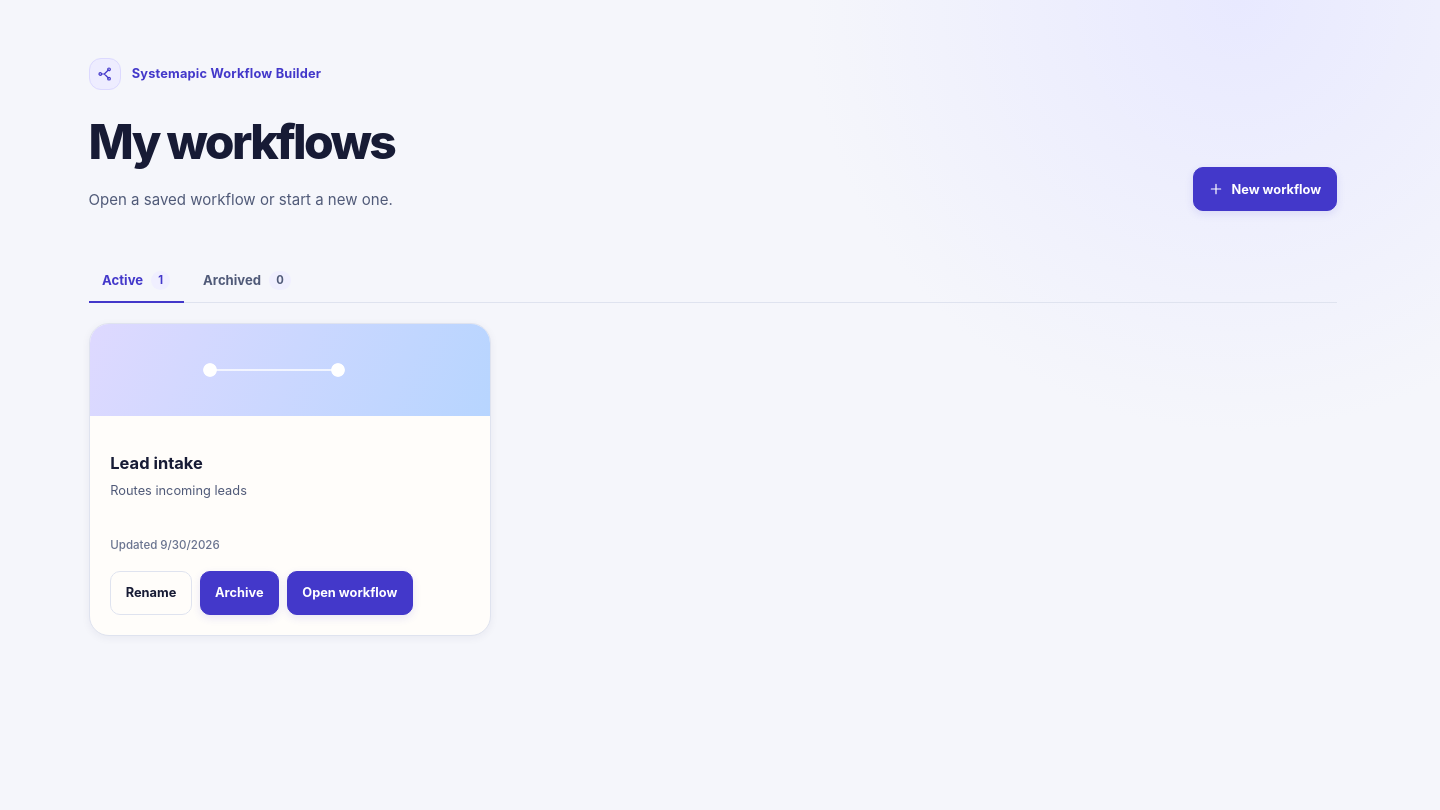
Scenario: WorkflowLibrary › cancels archive confirmation without changing the card
Click the button "Archive": x=239, y=593 [200,571,279,615]
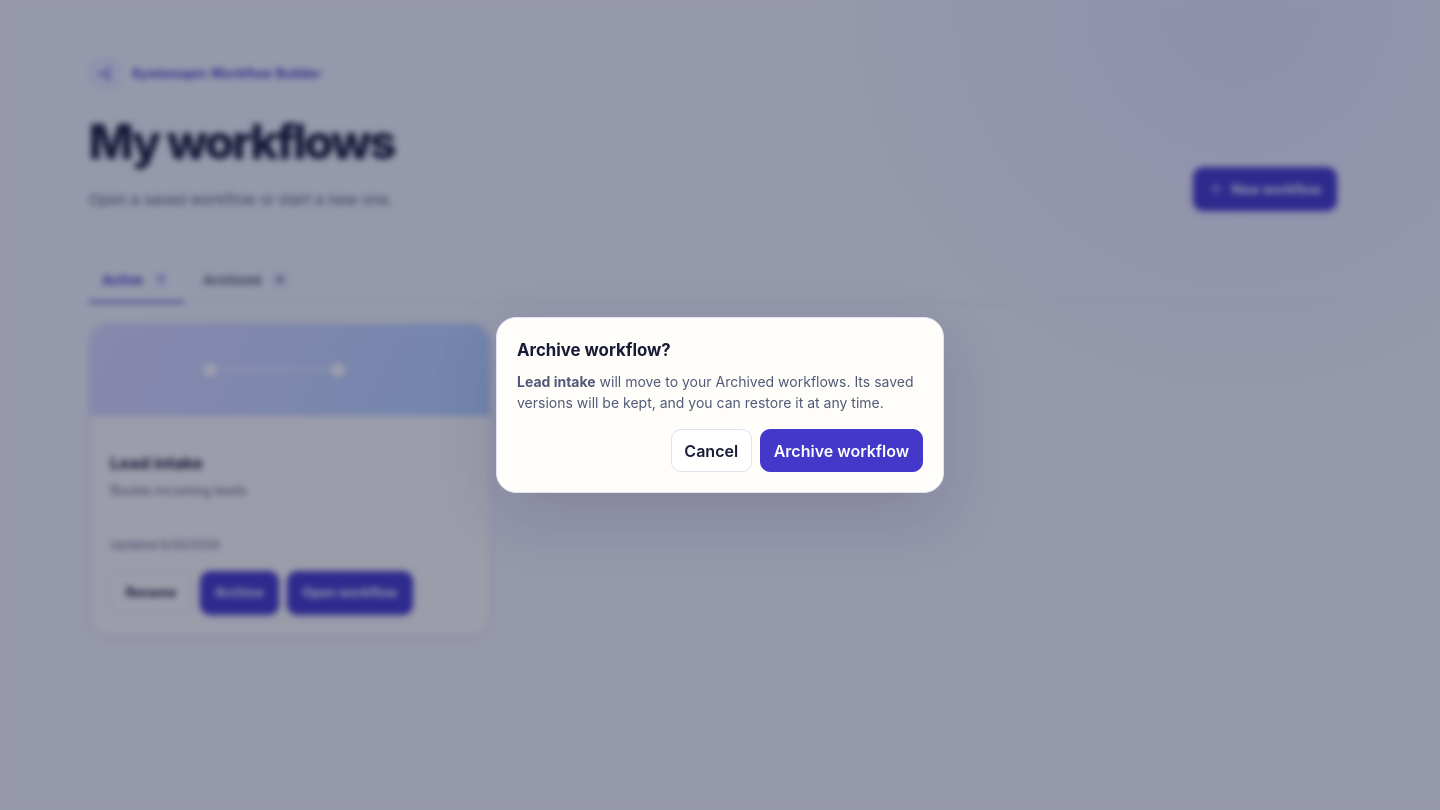
expect the text "saved versions will be kept" is shown: met, box [517,373,914,411]
Click the button "Cancel": x=711, y=451 [671,429,752,472]
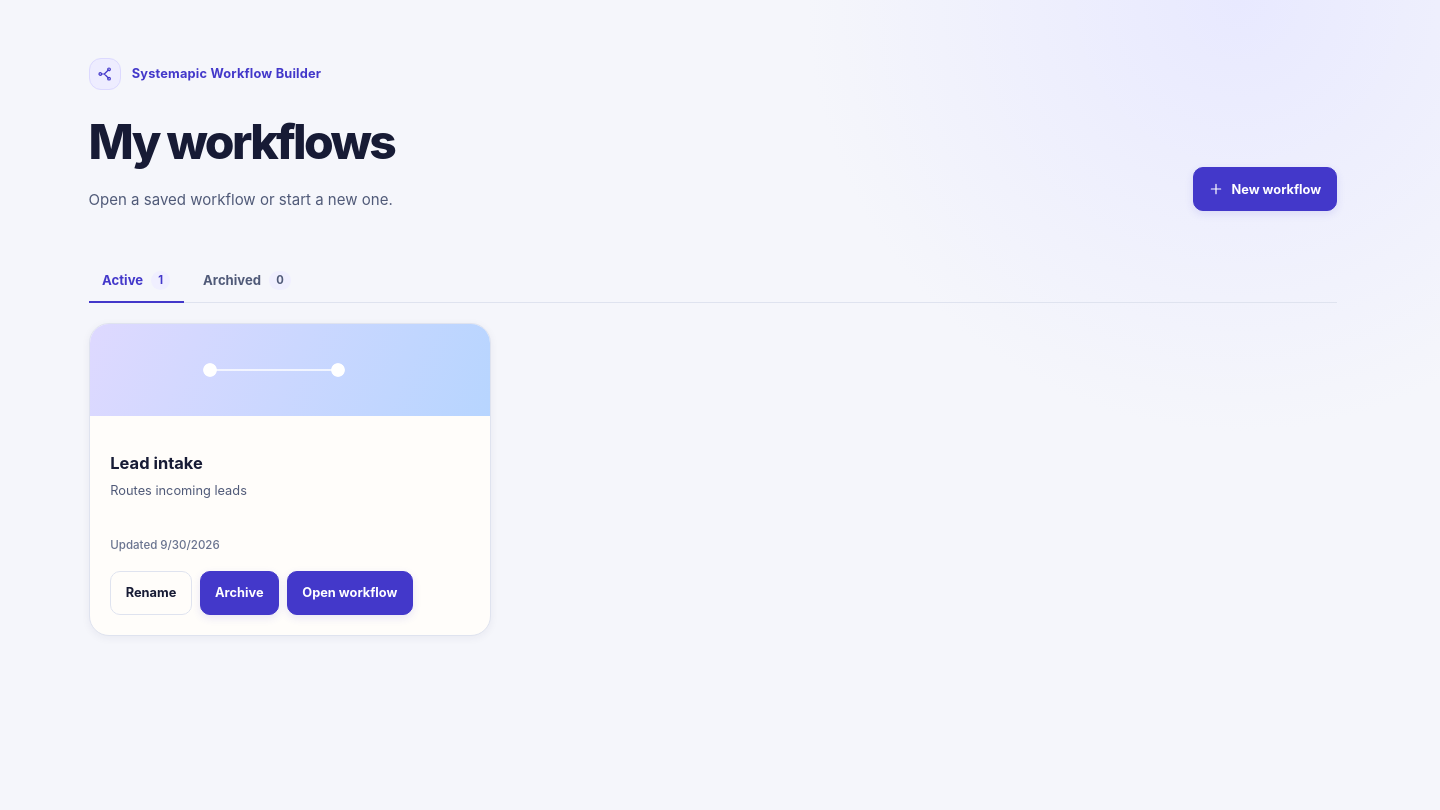
expect the heading "Lead intake" is shown: met, box [110,453,203,473]
expect the dialog is gone: met
